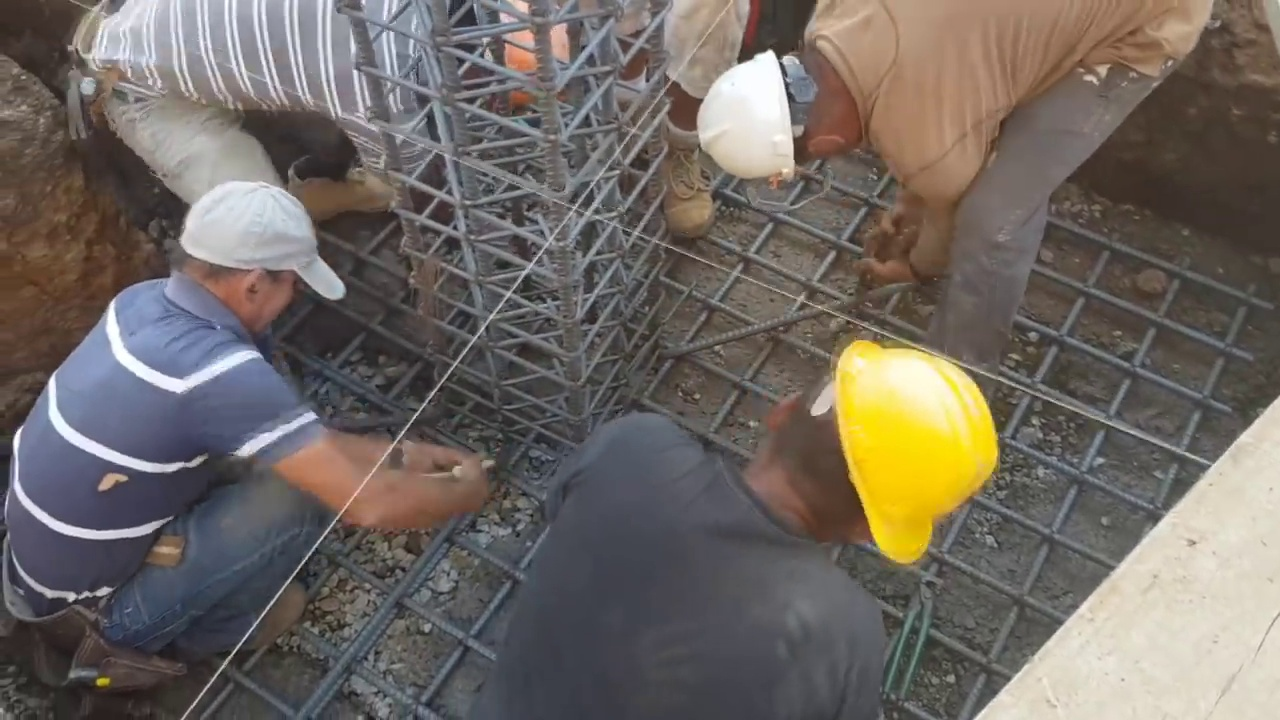helmet: (831, 347, 1006, 567), (700, 45, 811, 189), (492, 12, 594, 120)
helmet-off: (168, 183, 335, 326)
helmet-on: (727, 347, 1004, 564), (700, 26, 884, 191), (434, 0, 594, 119)
person: (0, 177, 495, 693), (477, 343, 1007, 720), (692, 0, 1220, 368), (73, 3, 614, 209), (591, 2, 753, 245)
